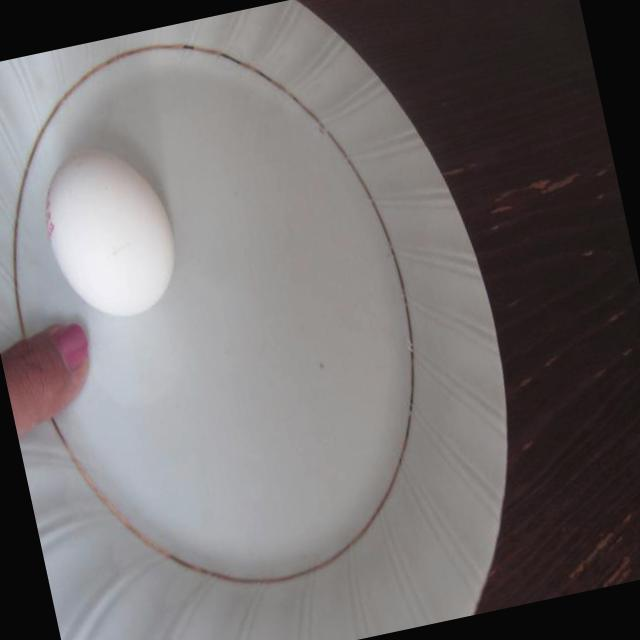Egg: (24, 125, 193, 328)
